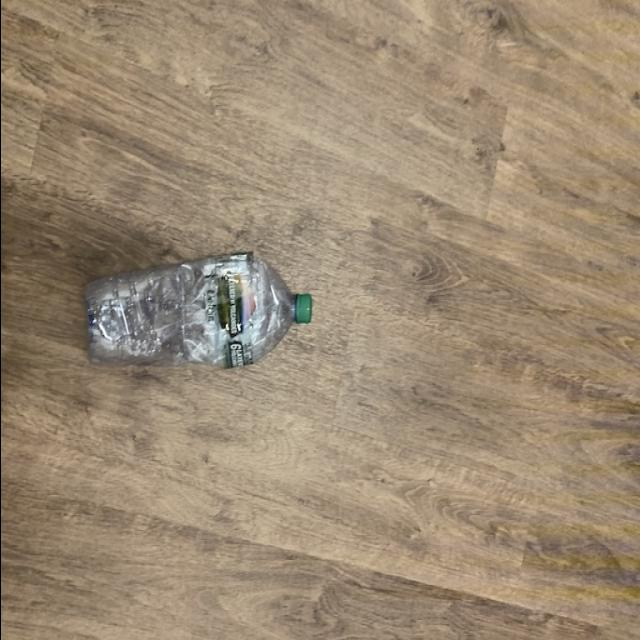PET: (82, 252, 312, 378)
